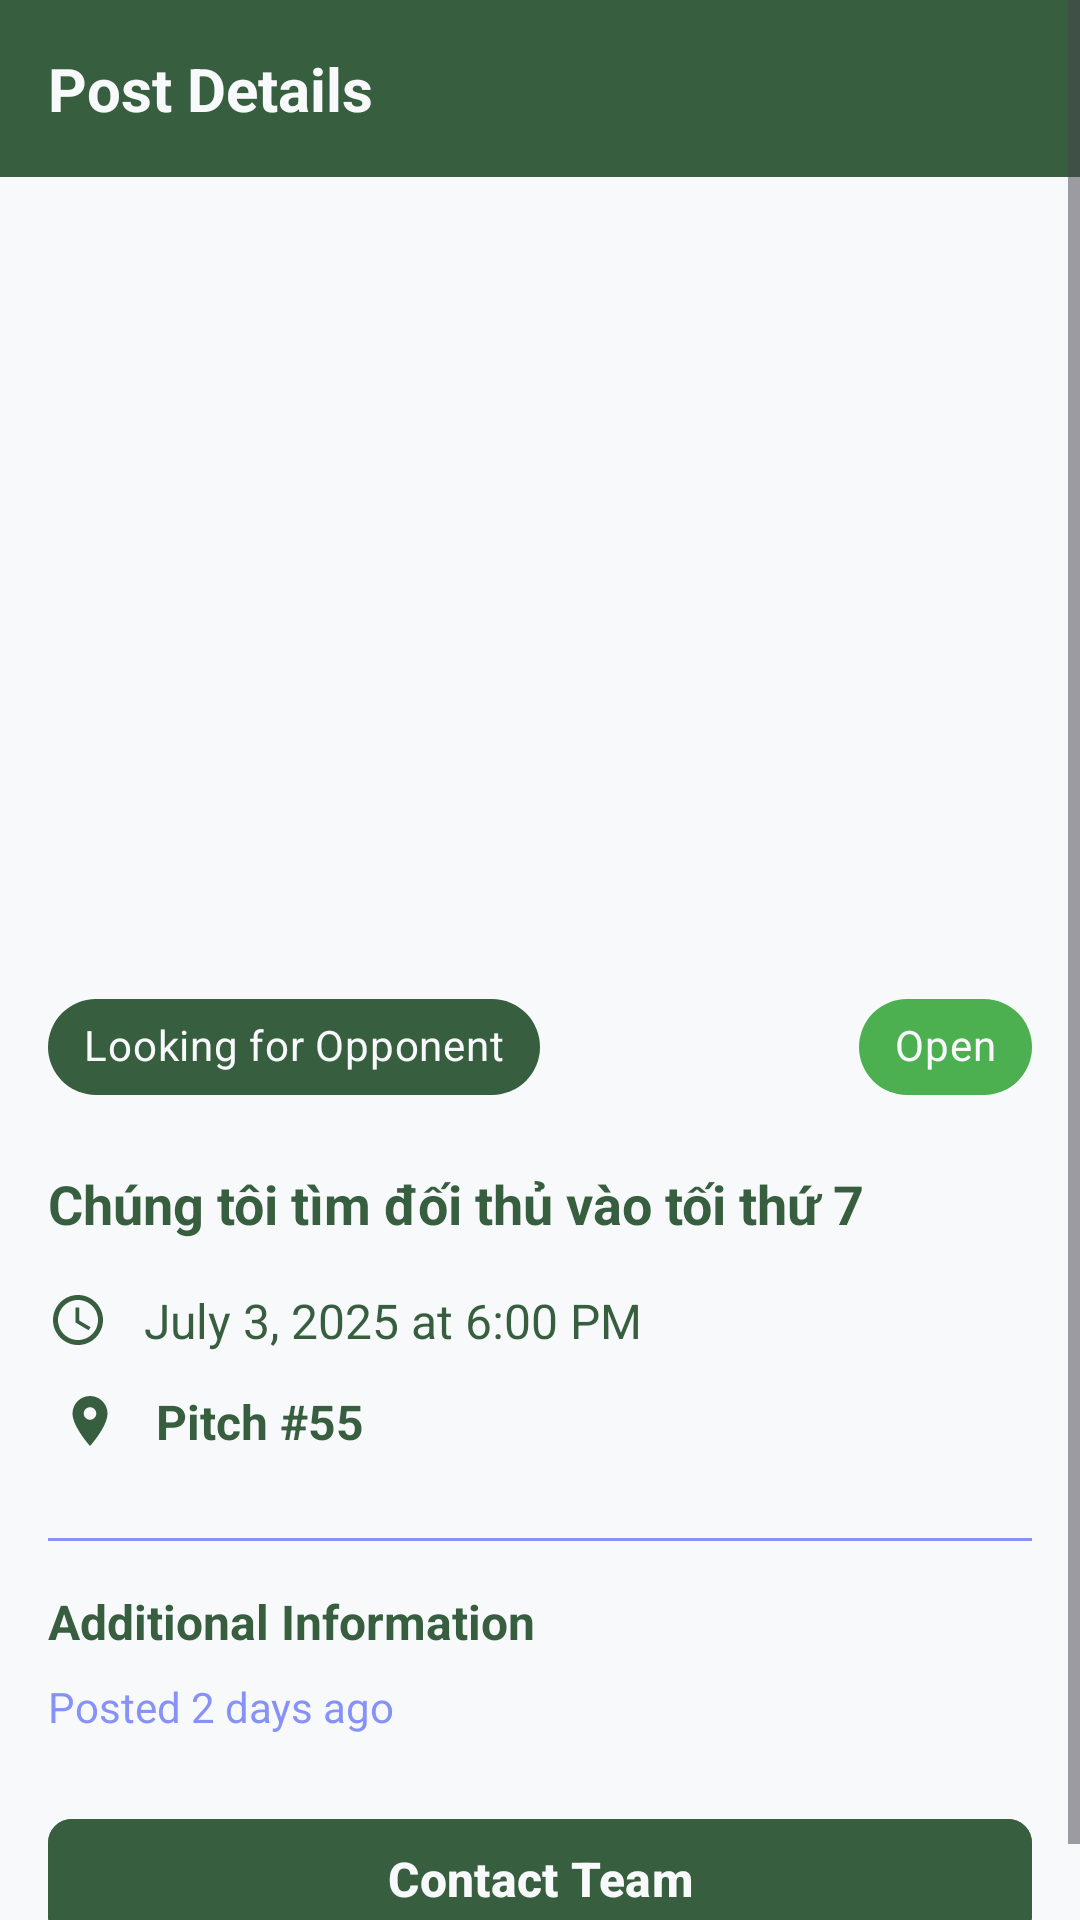

Where to tap for icons on this 1080w x 1920h app screen, as (x,y):
location: (90,1421)
schedule: (78,1320)
